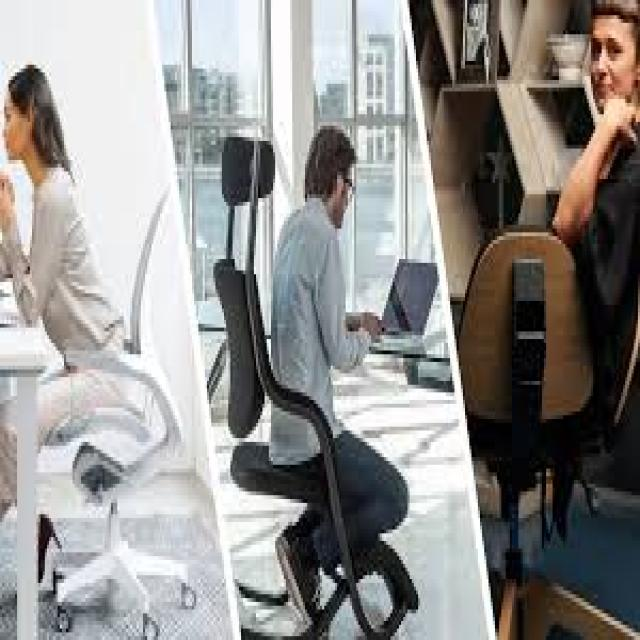chair: (177, 112, 426, 640), (429, 194, 640, 640), (24, 179, 189, 640)
